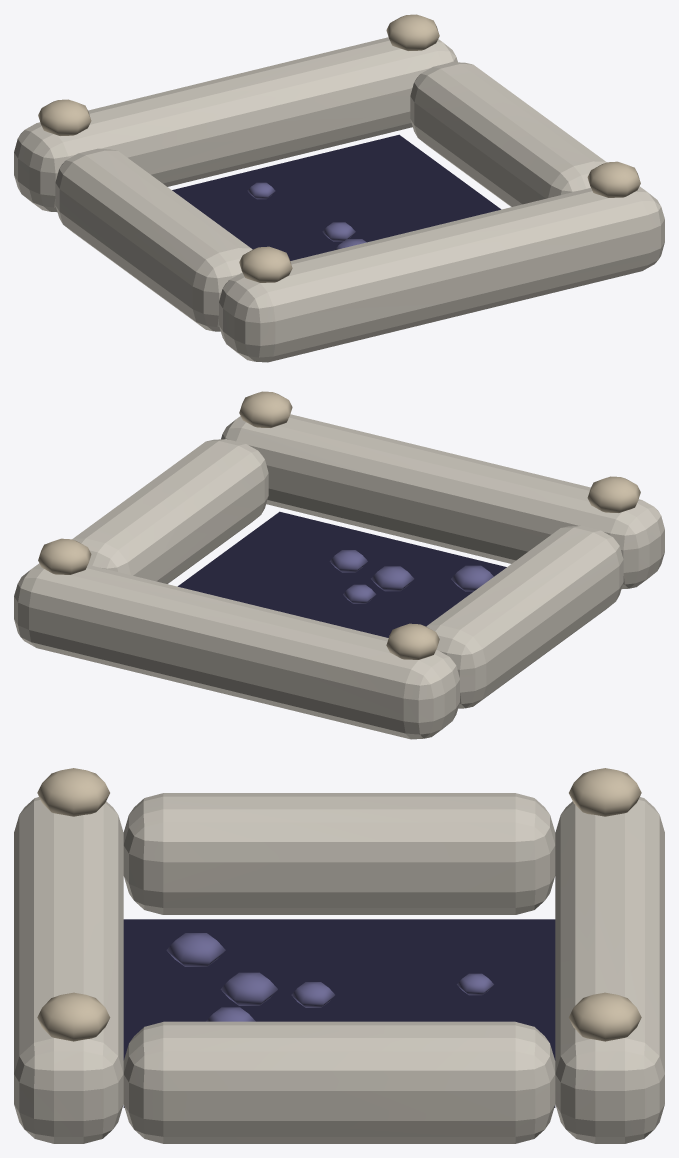
The model's file is gym_hole_lite.glb.
3 renders of one model, top to bottom at view 1: azimuth 30°, elevation 25°; view 2: azimuth 150°, elevation 25°; view 3: azimuth 270°, elevation 25°, orthographic. The views are drawn at different scales.
Visible parts, largest first — view 1: Cube; view 2: Cube; view 3: Cube.
Boxes of the visible parts, box(x1,y1,x2,y2) form: Cube: box(14, 14, 664, 362); Cube: box(14, 391, 664, 739); Cube: box(14, 768, 664, 1143).
Size of the model in its own units: 1.96 by 0.446 by 1.96.
